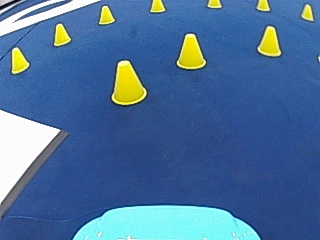cone: (110, 58, 147, 104), (176, 32, 206, 68), (256, 24, 282, 56), (10, 46, 29, 73), (53, 22, 70, 45), (98, 4, 115, 24), (300, 3, 314, 21), (150, 0, 165, 13), (255, 0, 270, 11), (207, 0, 221, 8)
